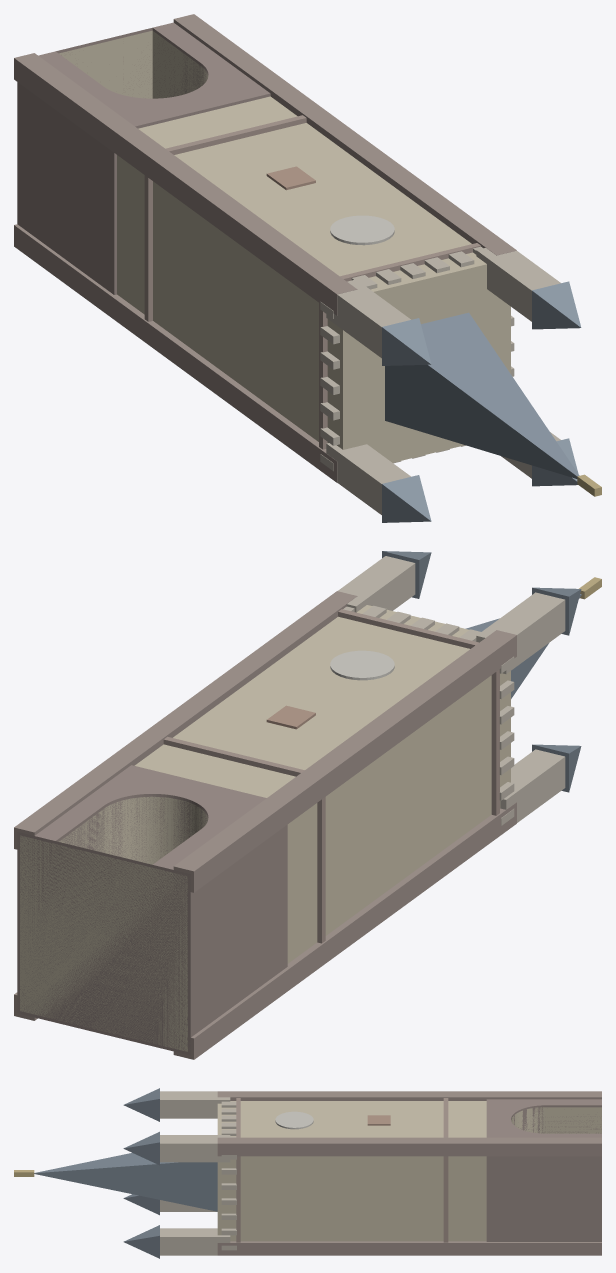
Rendered from martinstor_measured.glb.
The picture shows the model from 3 angles, top to bottom: view 1: azimuth 30°, elevation 25°; view 2: azimuth 150°, elevation 25°; view 3: azimuth 270°, elevation 25°; orthographic projection. The views are drawn at different scales.
Visible parts, largest first — view 1: turm, sockel, helm, quoin_-11, quoin_-1-1, quoin_11, zinnen, et_11, et_-11, et_-1-1, gesims0, etH_11 (+6 smaller); view 2: turm, sockel, quoin_-11, quoin_-1-1, quoin_11, et_-11, et_-1-1, et_11, gesims0, gesims1, zinnen, uhr_s (+5 smaller); view 3: turm, sockel, quoin_11, helm, quoin_1-1, quoin_-11, et_1-1, et_11, et_-11, zinnen, gesims0, etH_11 (+7 smaller).
Boxes of the visible parts, x1,y1,x2,y2 form: turm: (59, 30, 510, 462); sockel: (17, 22, 270, 294); helm: (385, 312, 579, 478); quoin_-11: (14, 53, 357, 315); quoin_-1-1: (14, 224, 337, 482); quoin_11: (173, 14, 516, 255); zinnen: (320, 246, 514, 470); et_11: (476, 248, 560, 321); et_-11: (326, 279, 410, 358); et_-1-1: (326, 443, 410, 514); gesims0: (144, 115, 306, 321); etH_11: (532, 281, 581, 329); turm: (20, 605, 510, 1051); sockel: (17, 765, 287, 1055); quoin_-11: (173, 630, 516, 892); quoin_-1-1: (173, 802, 516, 1059); quoin_11: (14, 591, 357, 849); et_-11: (476, 592, 565, 673); et_-1-1: (500, 749, 565, 822); et_11: (337, 556, 415, 612); gesims0: (163, 736, 325, 943); gesims1: (338, 609, 499, 815); zinnen: (343, 605, 514, 825); uhr_s: (330, 650, 394, 680); turm: (217, 1101, 601, 1241); sockel: (486, 1099, 601, 1241); quoin_11: (217, 1137, 601, 1156); helm: (34, 1153, 217, 1211); quoin_1-1: (217, 1241, 601, 1255); quoin_-11: (217, 1091, 601, 1100); et_1-1: (160, 1228, 230, 1255); et_11: (160, 1135, 230, 1162); et_-11: (160, 1091, 230, 1118); zinnen: (221, 1101, 236, 1250); gesims0: (443, 1098, 448, 1242); etH_11: (123, 1131, 159, 1165).
Size of the model in its own units: 10.04 by 10.04 by 45.9.
